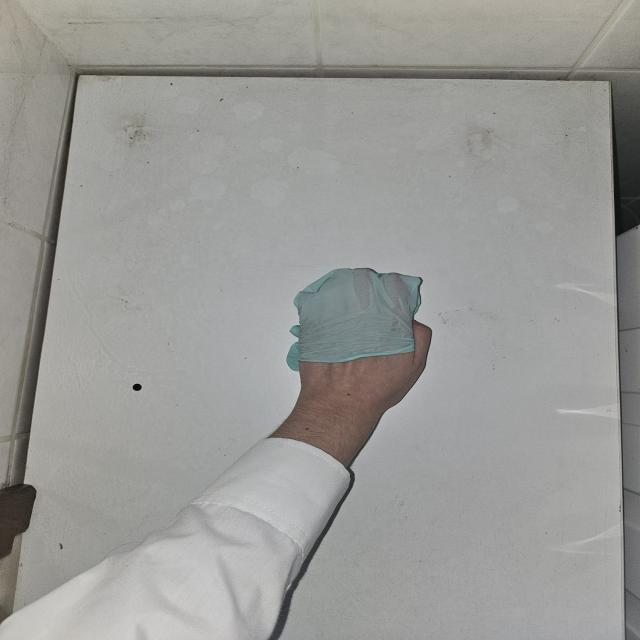glove_partial: (286, 266, 434, 412)
